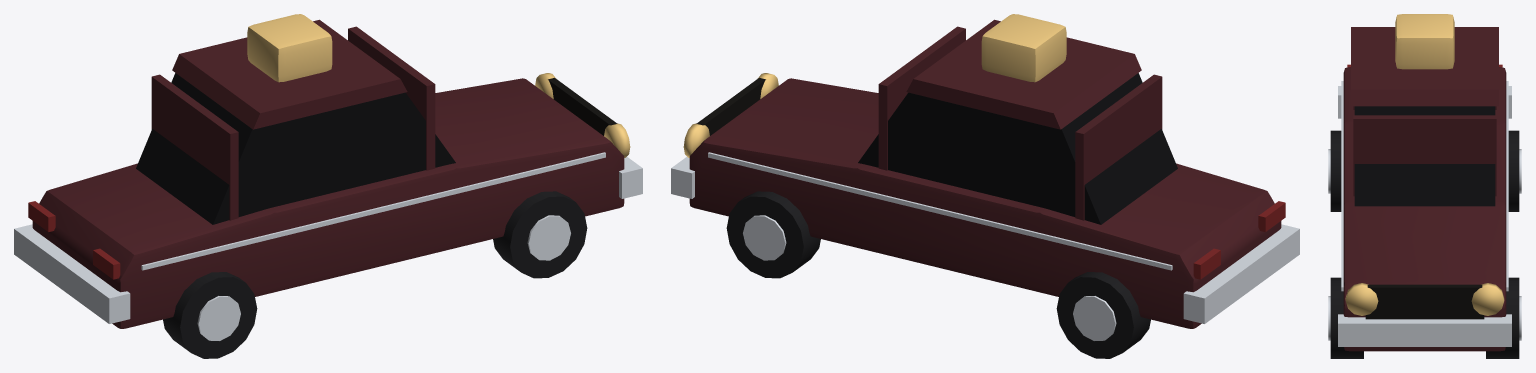
File: sedan.glb
3 views of the same model, side by side, from view 1: azimuth 30°, elevation 25°; view 2: azimuth 150°, elevation 25°; view 3: azimuth 270°, elevation 25° (orthographic). The views are drawn at different scales.
Visible parts, largest first — view 1: Body, Wheels, Chrome, LampRoof; view 2: Body, Wheels, Chrome, LampRoof; view 3: Body, Chrome, Wheels, LampRoof.
Boxes of the visible parts, bbox=[...] form: Body: bbox=[32, 19, 624, 328]; Wheels: bbox=[163, 191, 587, 358]; Chrome: bbox=[14, 73, 642, 323]; LampRoof: bbox=[247, 14, 332, 82]; Body: bbox=[689, 19, 1281, 328]; Wheels: bbox=[726, 191, 1150, 358]; Chrome: bbox=[671, 73, 1299, 323]; LampRoof: bbox=[981, 14, 1066, 82]; Body: bbox=[1343, 27, 1506, 351]; Chrome: bbox=[1338, 64, 1511, 346]; Wheels: bbox=[1328, 130, 1521, 358]; LampRoof: bbox=[1395, 14, 1454, 69].
Size of the model in its own units: 0.76 by 0.355 by 0.261.
